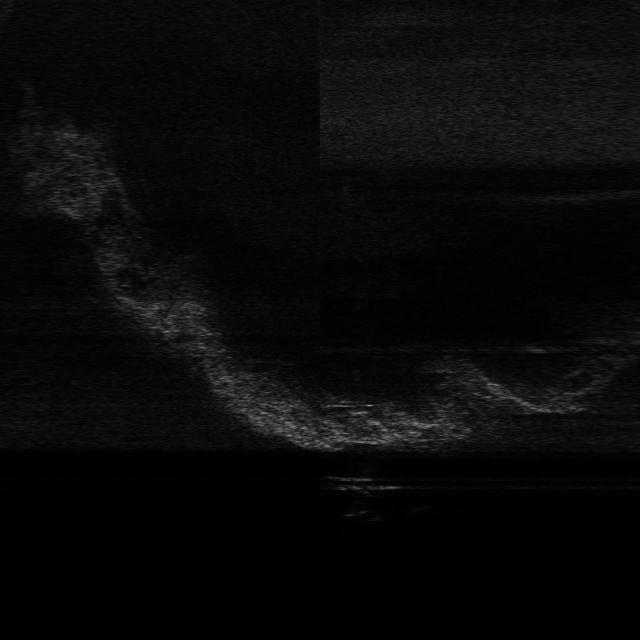plane: (327, 474, 404, 498)
